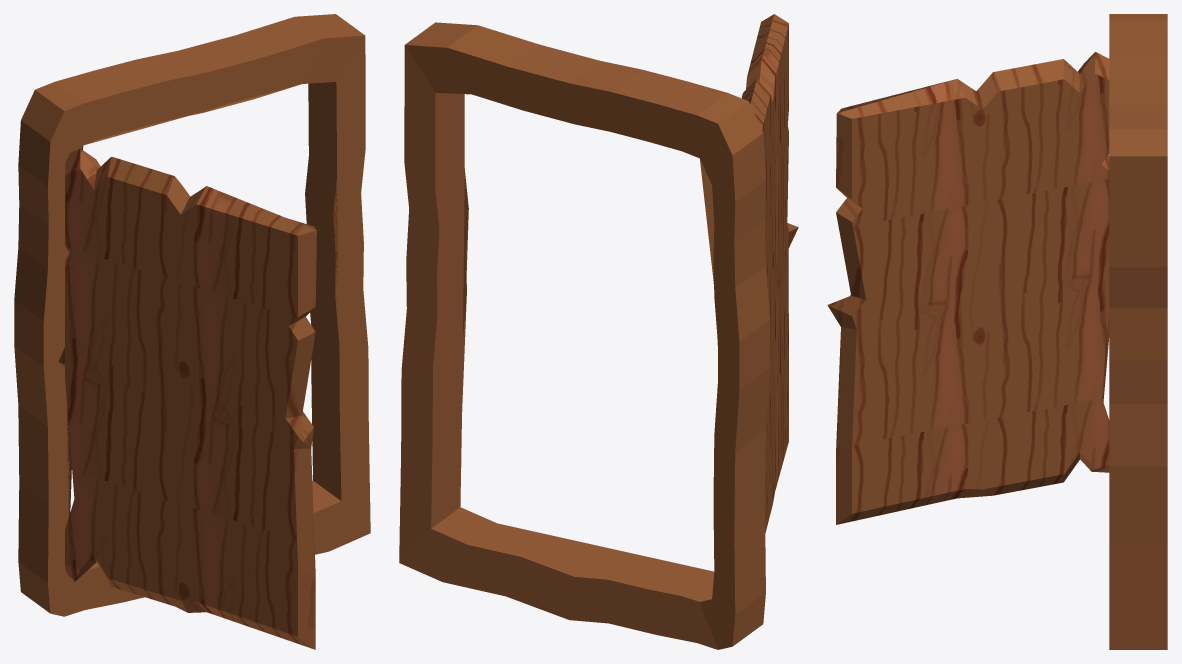
Rendered from Drzwi.fbx.
3 renders of one model, left to right at view 1: azimuth 30°, elevation 25°; view 2: azimuth 150°, elevation 25°; view 3: azimuth 270°, elevation 25°, orthographic. The views are drawn at different scales.
Visible parts, largest first — view 1: Drzwi.001, Rama; view 2: Rama, Drzwi.001; view 3: Drzwi.001, Rama.
Part boxes in pixels (bbox=[...]): Drzwi.001: bbox=[58, 148, 316, 649]; Rama: bbox=[14, 14, 370, 616]; Rama: bbox=[399, 22, 770, 649]; Drzwi.001: bbox=[741, 14, 798, 532]; Drzwi.001: bbox=[827, 52, 1109, 524]; Rama: bbox=[1109, 14, 1167, 649].
Bounding box in the file's own units: 509 × 776 × 466.
